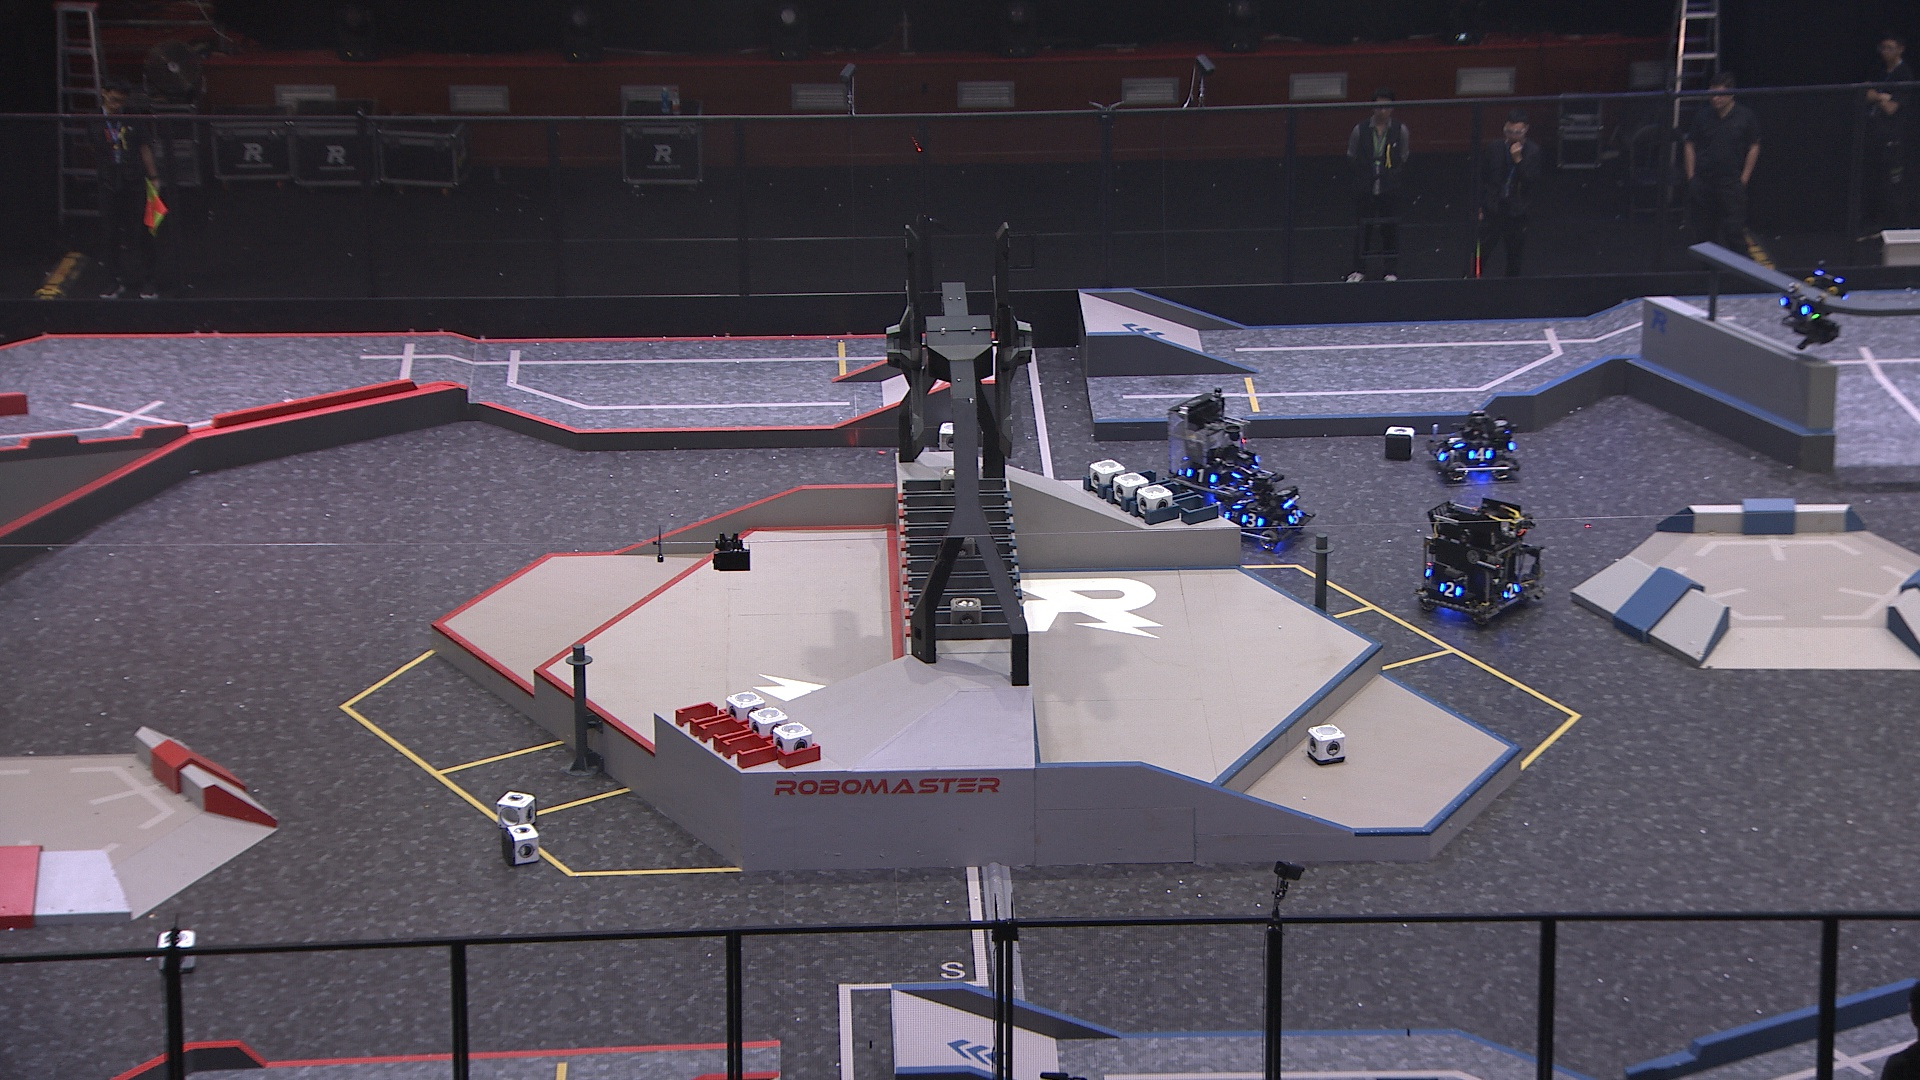armor: (1182, 467, 1220, 487), (1779, 295, 1811, 318), (1229, 462, 1258, 481), (1437, 576, 1462, 599), (1229, 491, 1253, 513), (1462, 446, 1493, 463), (1240, 509, 1265, 529), (1499, 579, 1520, 600), (1284, 506, 1305, 527), (1444, 433, 1466, 451), (1432, 442, 1451, 463)
car: (1416, 495, 1549, 629), (1159, 385, 1282, 516), (1215, 469, 1316, 551), (1424, 405, 1522, 488)
watcher: (1774, 258, 1854, 351)
